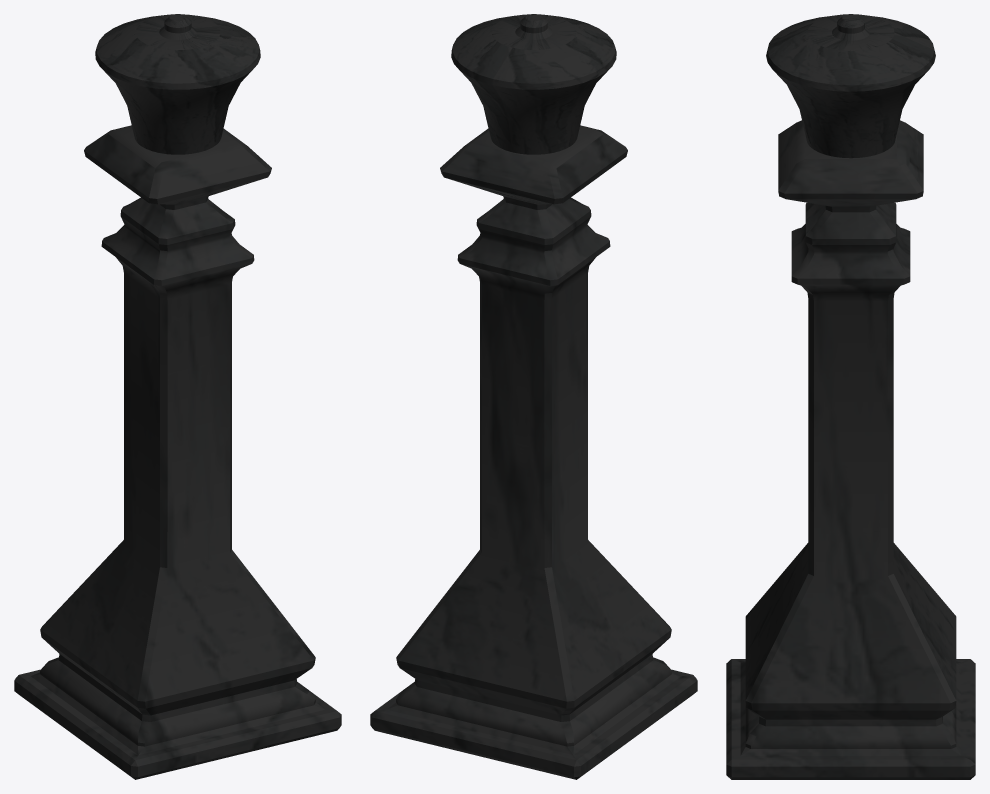
File: chess_queen_01-black.glb
3 renders of one model, left to right at view 1: azimuth 30°, elevation 25°; view 2: azimuth 150°, elevation 25°; view 3: azimuth 270°, elevation 25°, orthographic. The views are drawn at different scales.
Parts seen in each view (by area): view 1: queen_01; view 2: queen_01; view 3: queen_01.
Part boxes in pixels (box(x1,y1,x2,y2)): queen_01: box(14, 14, 341, 779); queen_01: box(370, 14, 697, 779); queen_01: box(726, 14, 975, 779).
Size of the model in its own units: 0.5712 by 1.8 by 0.5712.
1 material, 1 textured.
